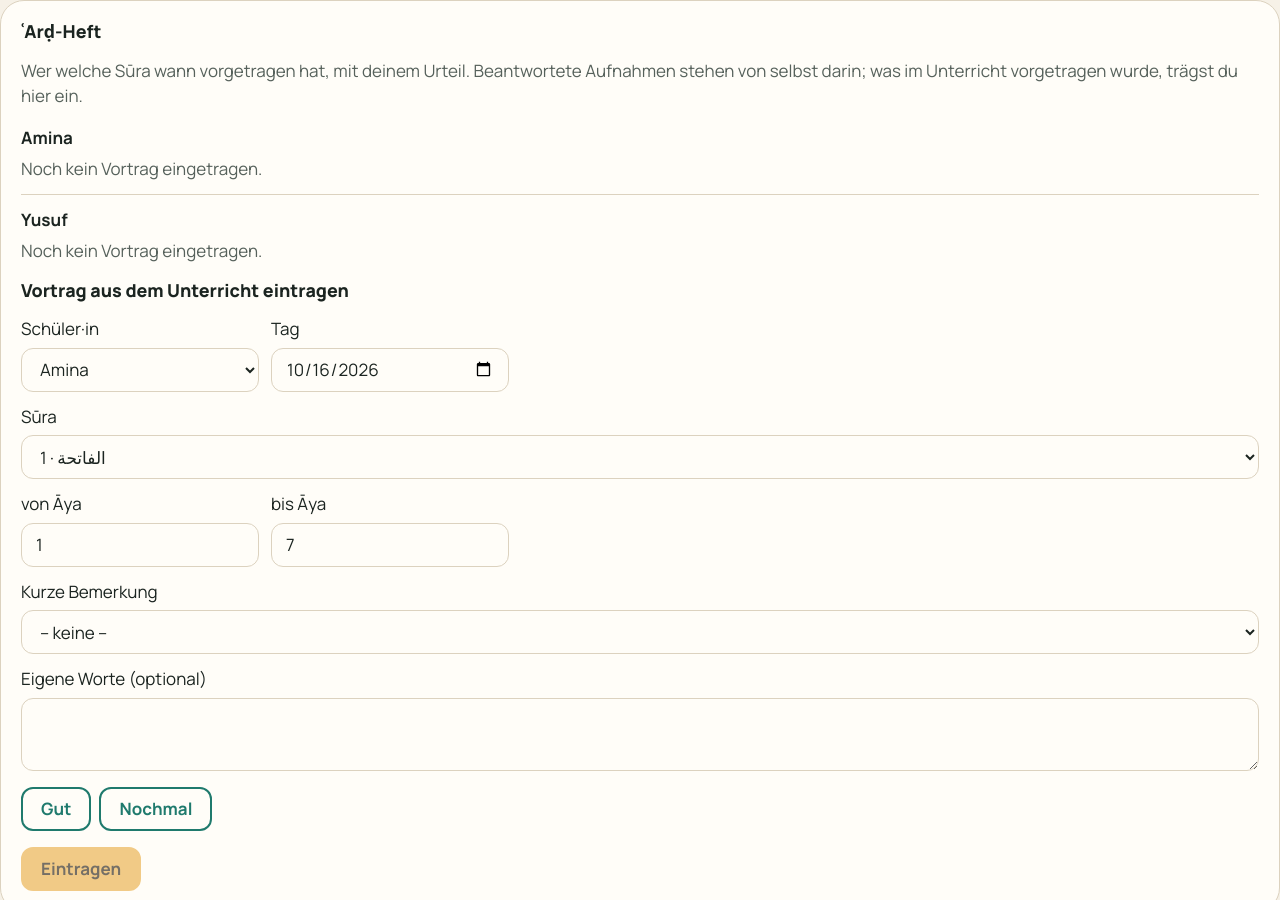
Test case: the ʿarḍ log for the sheikh (T4) › says why writing failed
This screenshot has width=1280, height=900.
Click the button "Gut".
click(56, 808)  # box [21,786,92,830]
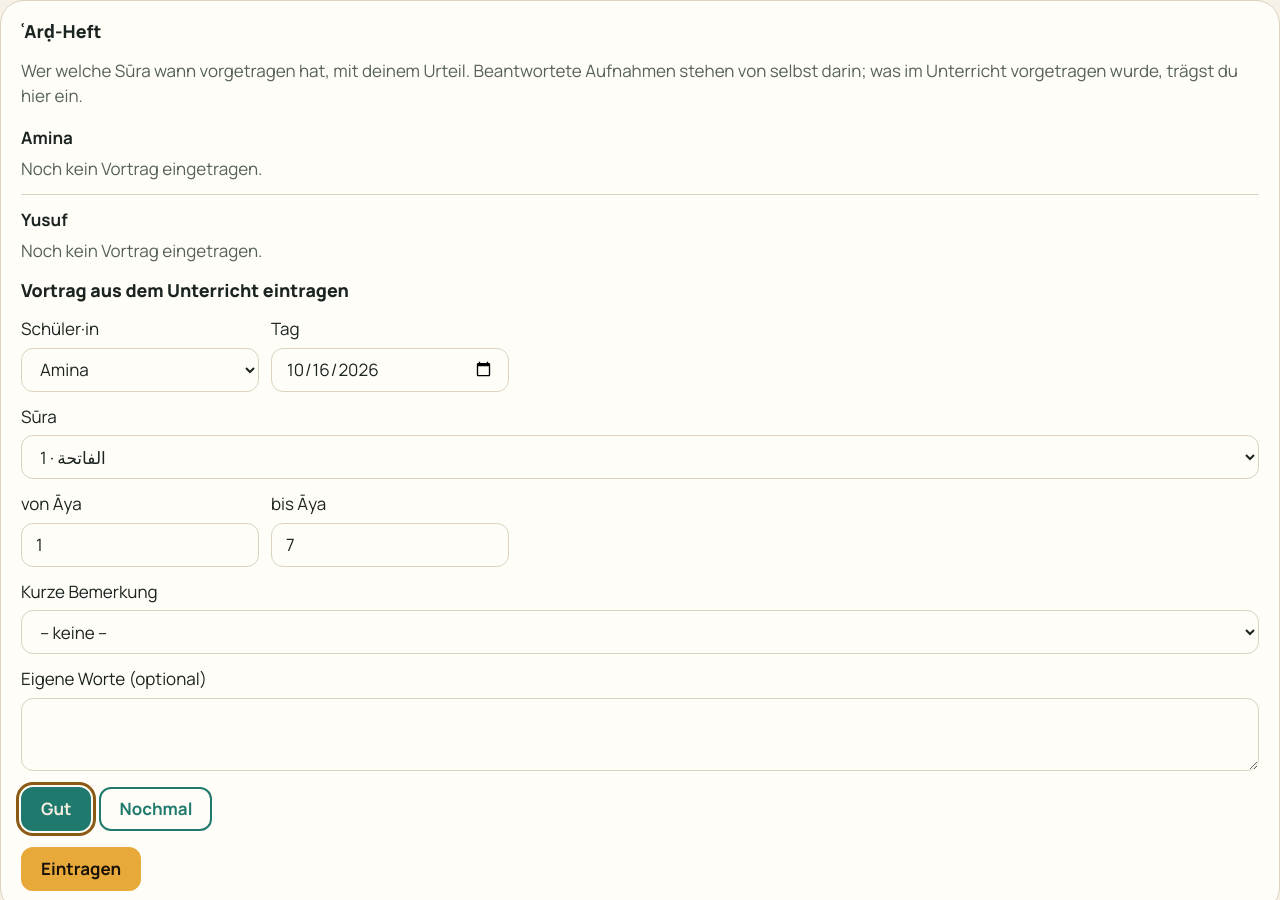
Click the button "Eintragen".
click(81, 868)  # box [21,846,141,890]
(page scrolled)
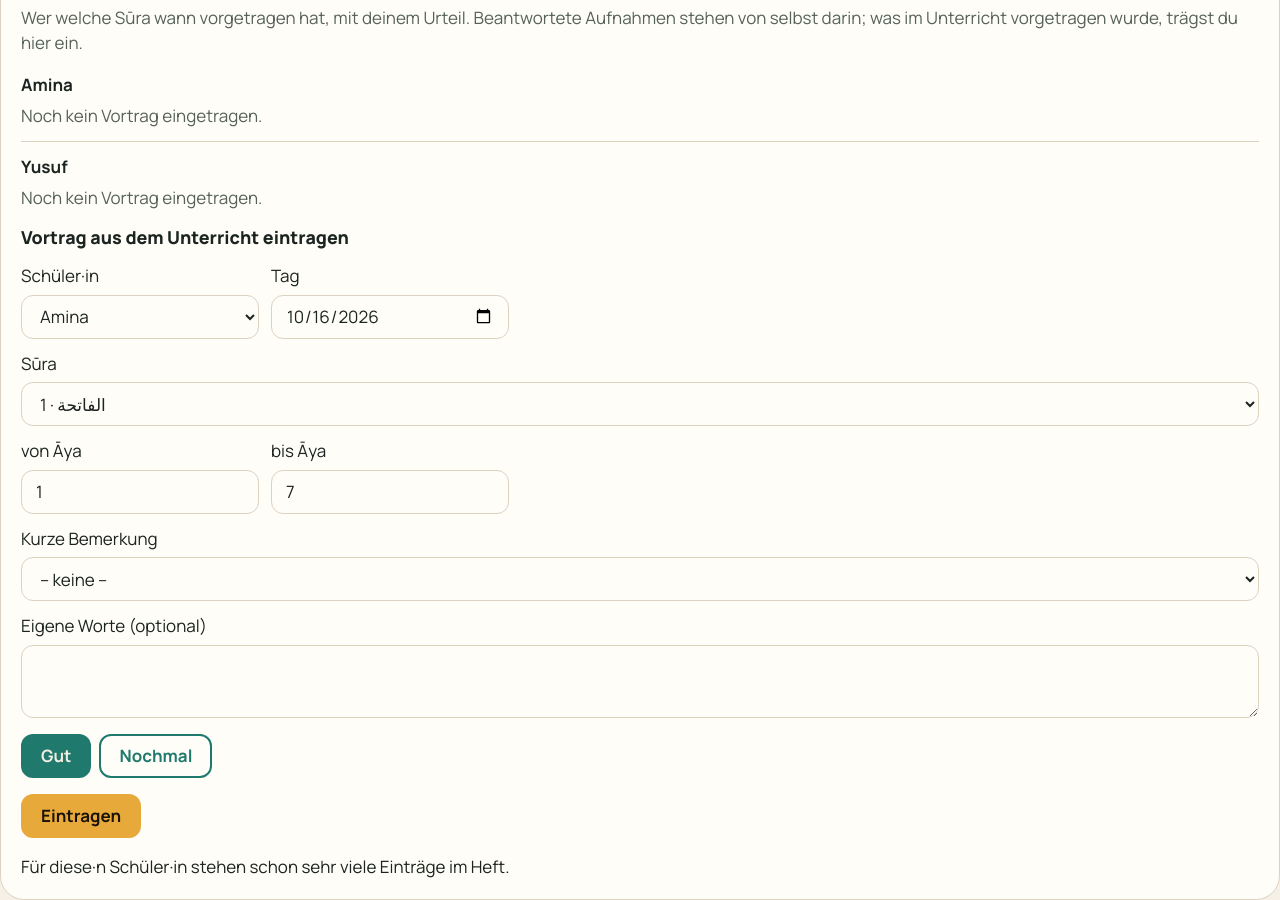
Result: the message reads "Für diese·n Schüler·in stehen schon sehr viele Einträge im Heft." at [21,854,510,878]
